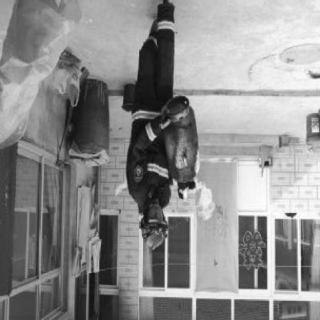Fire: (178, 180, 222, 238)
